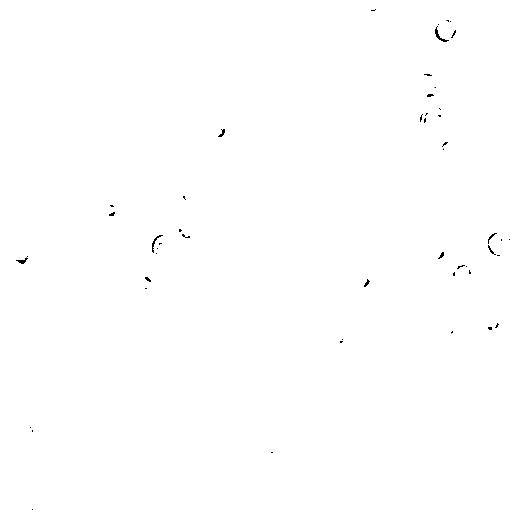micro-algae: (56, 111, 166, 223), (189, 0, 314, 64), (311, 433, 412, 511), (1, 77, 75, 152), (190, 16, 255, 84), (391, 61, 445, 113), (340, 422, 388, 475), (242, 223, 289, 275), (432, 120, 478, 168), (79, 263, 118, 300), (0, 139, 29, 177), (417, 105, 449, 136), (147, 232, 178, 260), (39, 21, 67, 50), (433, 315, 461, 344), (401, 303, 429, 331), (188, 117, 215, 146), (260, 435, 286, 464), (321, 323, 349, 349), (471, 64, 499, 89), (451, 261, 474, 291), (43, 464, 69, 490), (487, 231, 511, 259), (476, 479, 501, 505), (412, 74, 442, 95), (328, 15, 354, 39), (213, 390, 238, 414), (160, 127, 182, 153), (436, 20, 459, 43), (134, 254, 159, 275), (18, 493, 47, 511), (478, 1, 501, 23), (492, 124, 511, 150), (15, 421, 36, 443), (442, 138, 463, 160), (11, 241, 31, 264), (239, 218, 263, 237), (427, 242, 447, 264), (178, 221, 199, 241), (479, 313, 500, 331), (211, 119, 229, 139), (237, 235, 258, 252), (352, 273, 374, 289), (101, 200, 121, 217), (358, 0, 384, 13), (181, 183, 199, 201), (14, 281, 33, 298), (136, 276, 152, 291)
